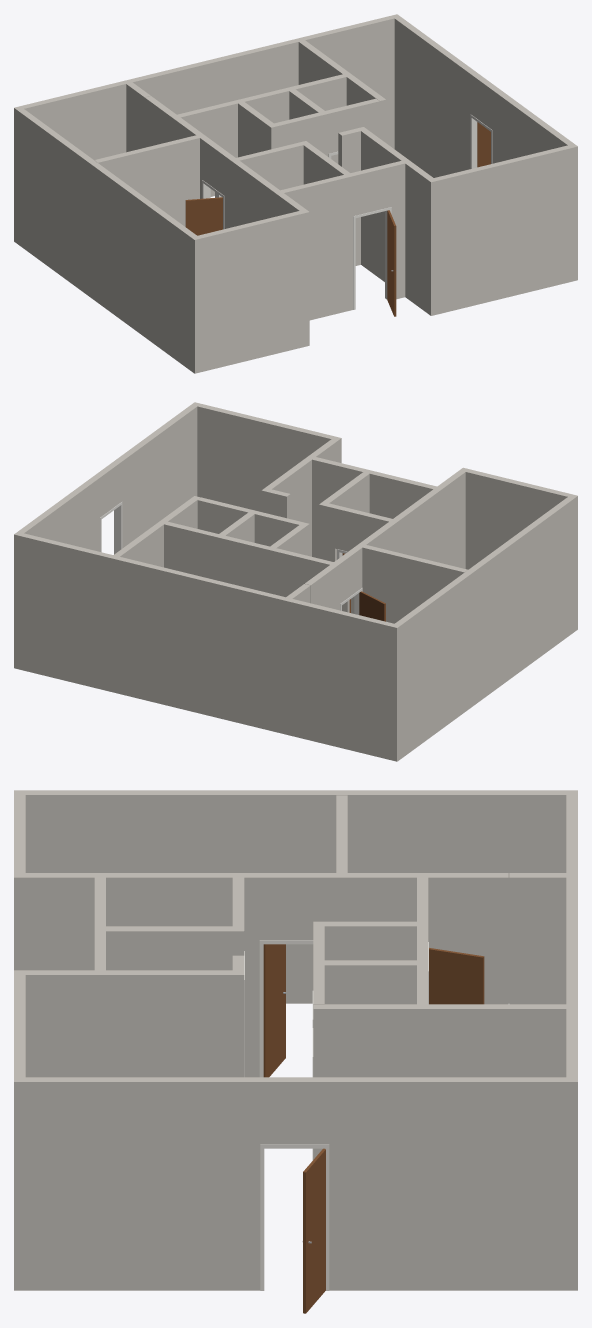
Rendered from three-bedroom_s.glb.
3 renders of one model, top to bottom at view 1: azimuth 30°, elevation 25°; view 2: azimuth 150°, elevation 25°; view 3: azimuth 270°, elevation 25°, orthographic. The views are drawn at different scales.
Visible parts, largest first — view 1: Ground Floor; view 2: Ground Floor; view 3: Ground Floor.
Part boxes in pixels (x1,y1,x2,y2): Ground Floor: (14,14,577,373); Ground Floor: (14,402,577,761); Ground Floor: (14,790,577,1313).
Size of the model in its own units: 9.88 by 3.05 by 7.47.
